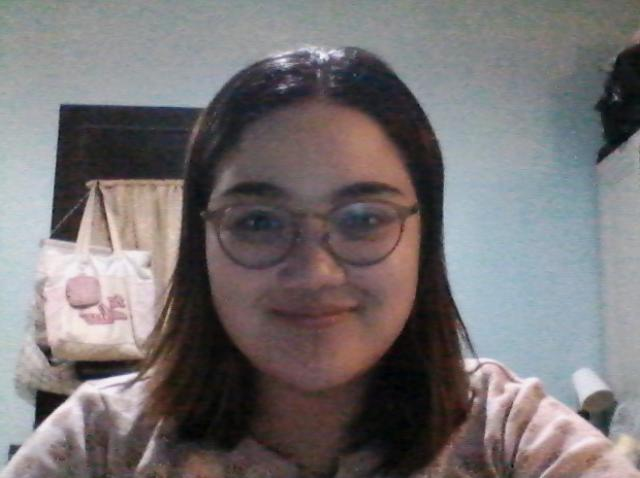senang: (200, 100, 433, 400)
